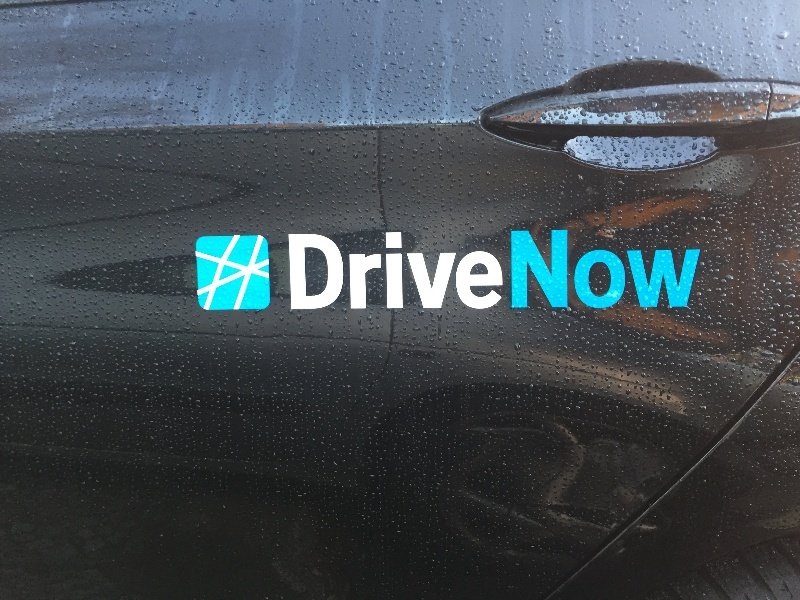text: (689, 230, 705, 308), (289, 232, 304, 310), (305, 232, 320, 310), (321, 232, 336, 310), (337, 232, 352, 310), (353, 232, 368, 310), (369, 232, 384, 310), (385, 232, 400, 310), (401, 232, 416, 310), (417, 232, 432, 310), (433, 232, 448, 310), (449, 232, 464, 310), (465, 232, 480, 310), (481, 232, 496, 310), (513, 230, 528, 308), (529, 230, 544, 308), (545, 230, 560, 308), (561, 230, 576, 308), (577, 230, 592, 308), (593, 230, 608, 308), (609, 230, 624, 308), (625, 230, 640, 308), (641, 230, 656, 308), (657, 230, 672, 308), (673, 230, 688, 308), (497, 232, 504, 310), (511, 230, 512, 308)
